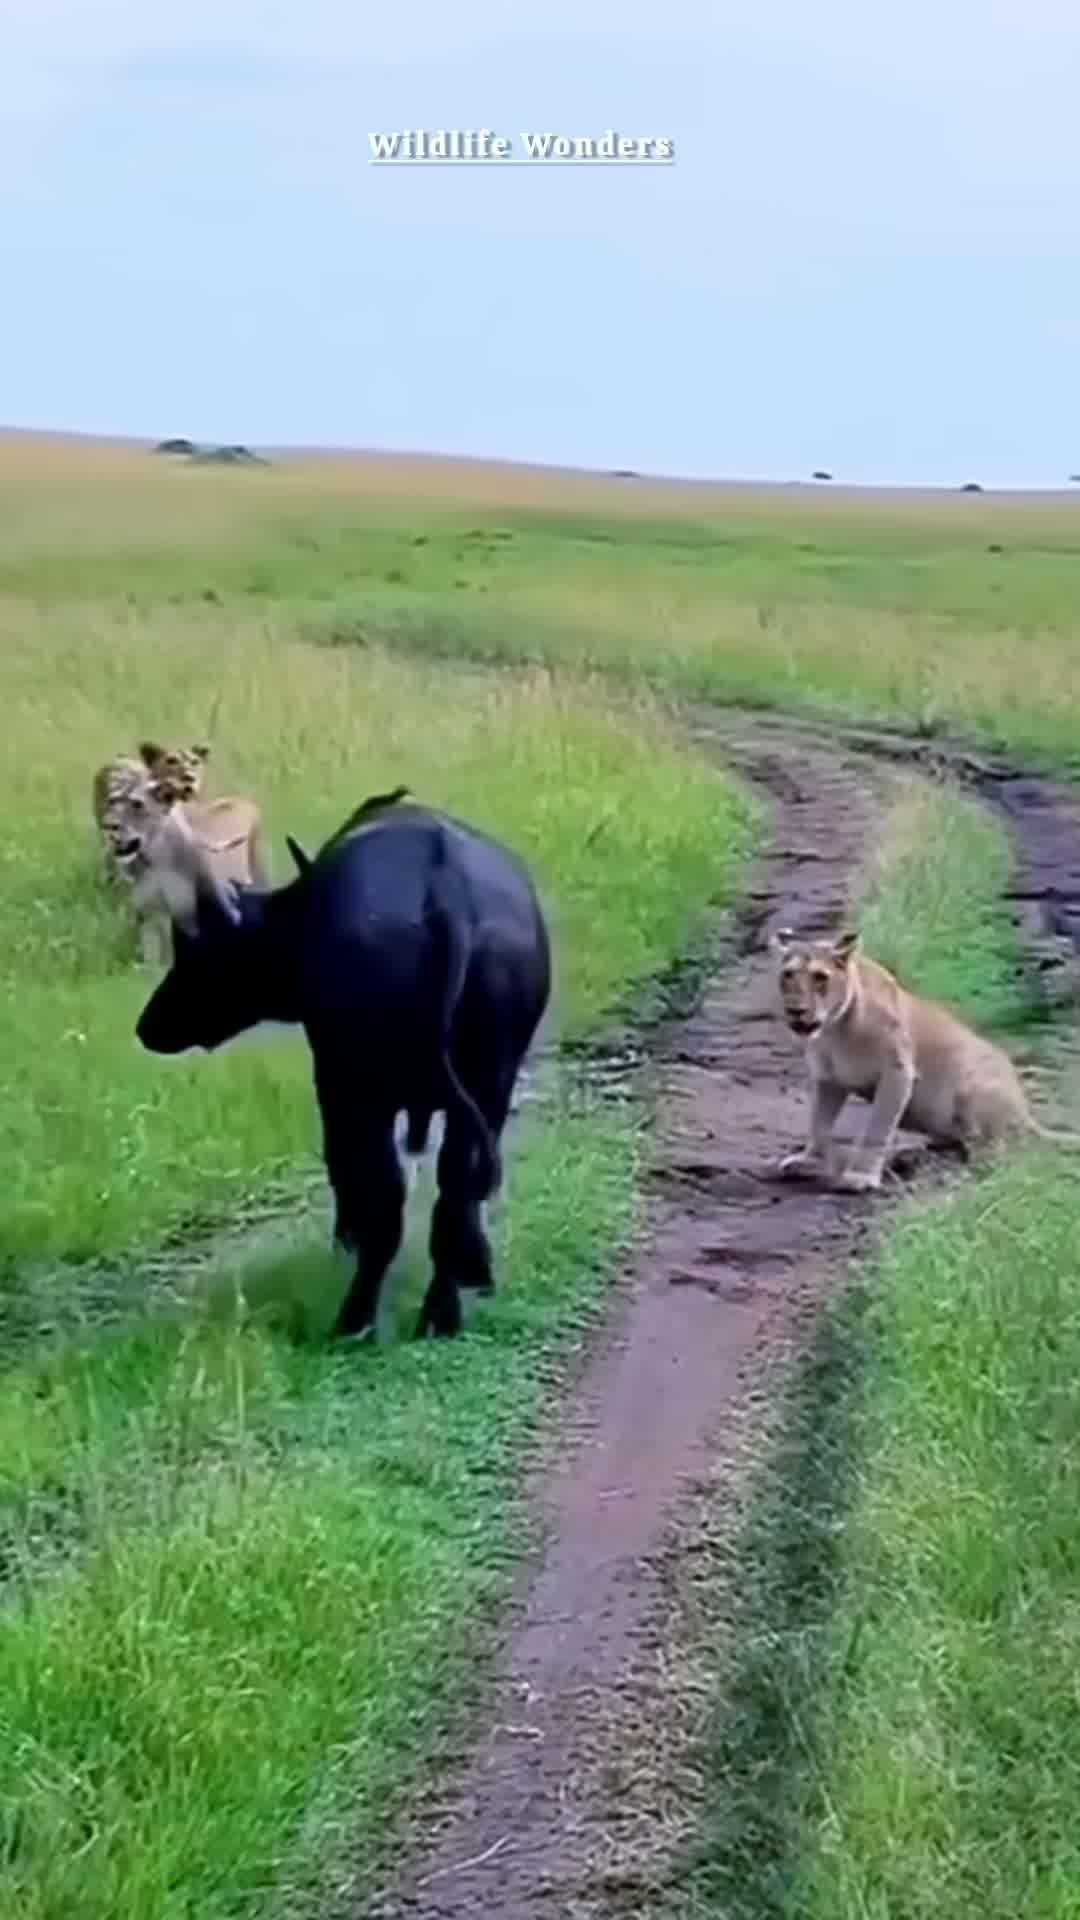Buffalo: (140, 827, 567, 1390)
lions: (675, 882, 1080, 1240)
